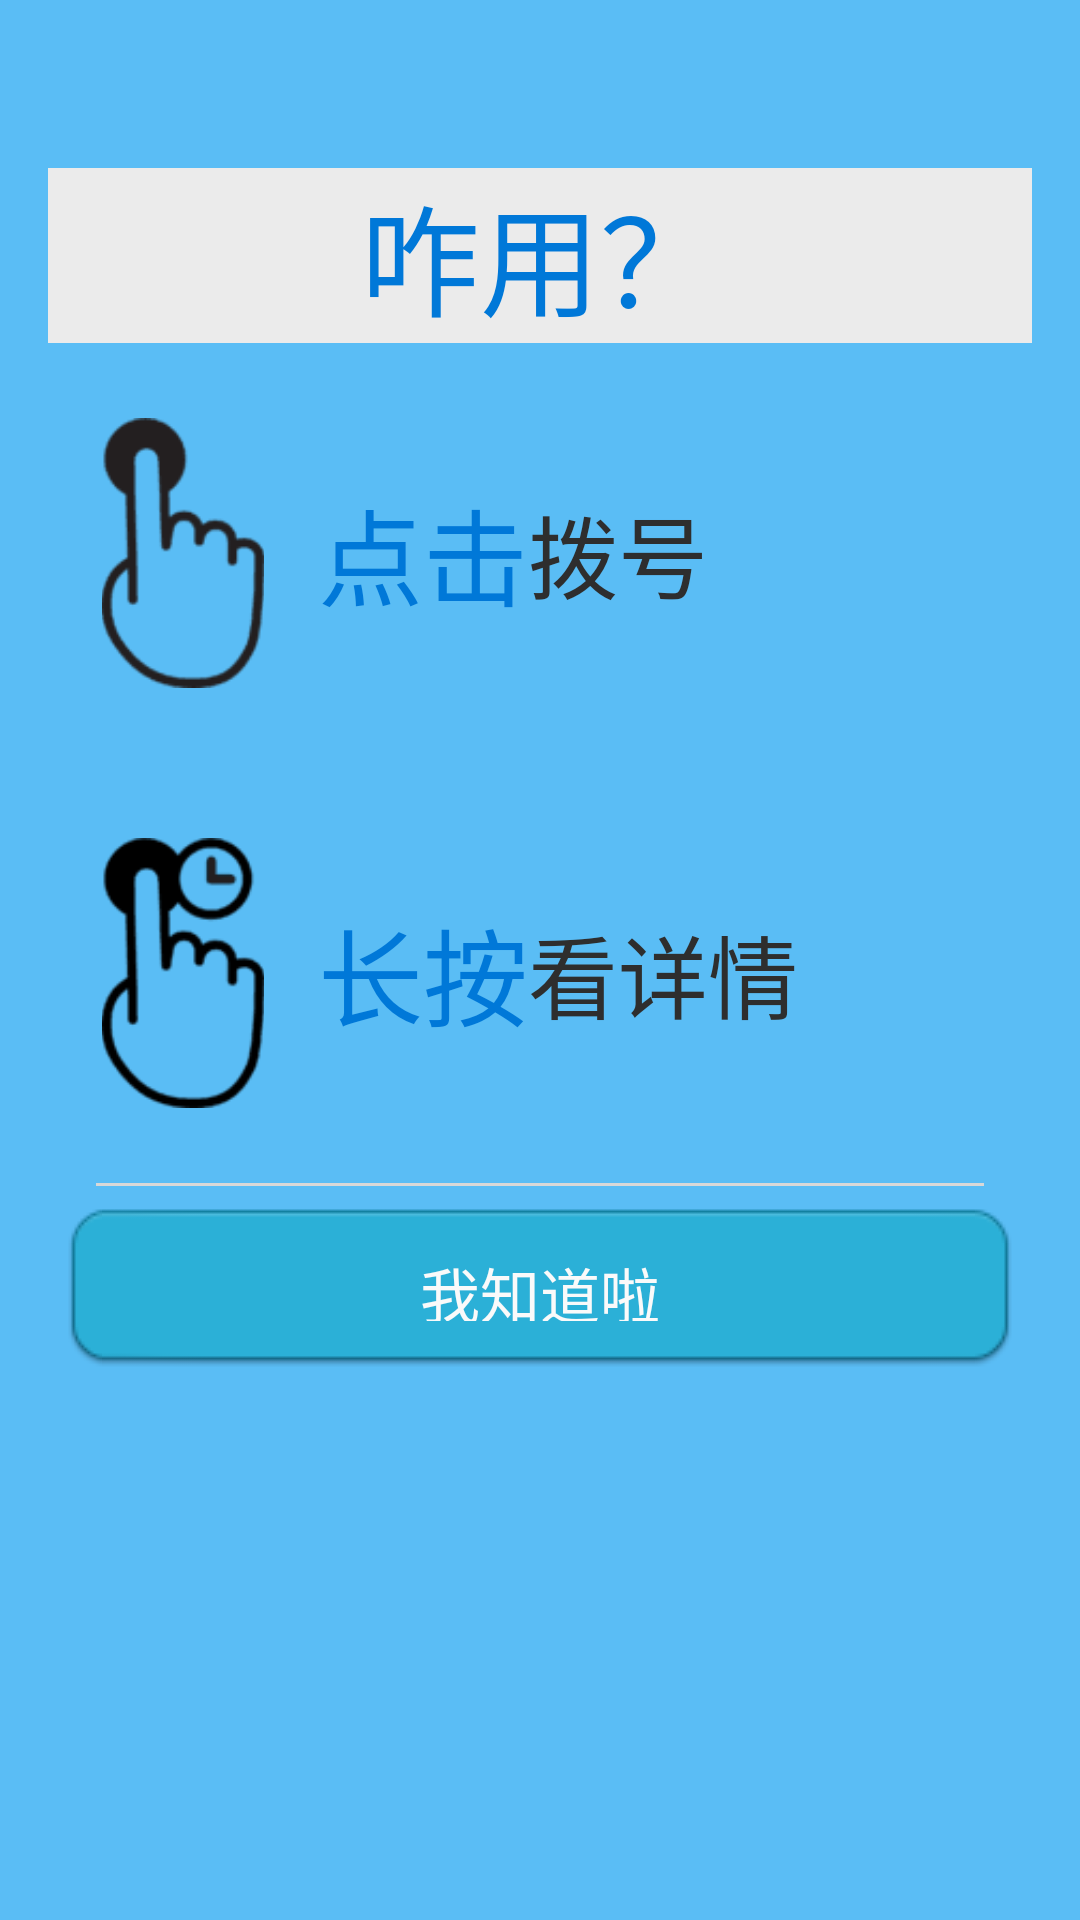

Icon click points for this 1080*1920 phone screenshot, format point (x, y):
gesture click: point (183, 553)
gesture long click: point (183, 973)
